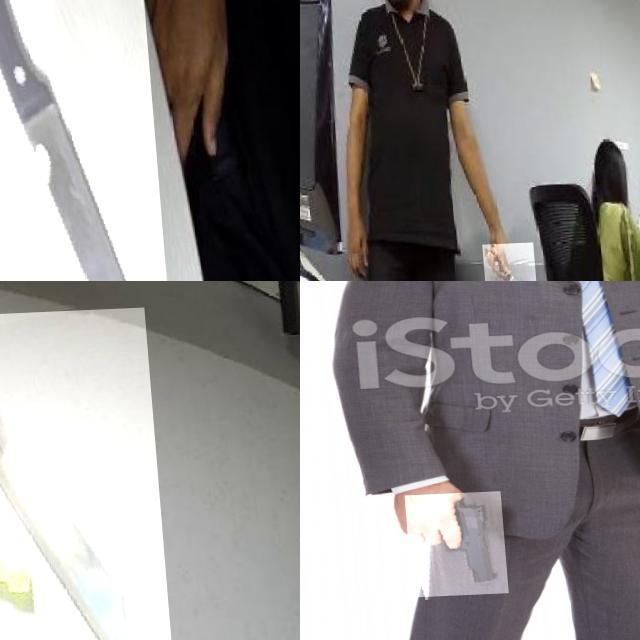-: (0, 311, 170, 640), (0, 0, 170, 281), (473, 245, 529, 281)
gun-knife-thesis - v11 Yolov5 augmented: (396, 494, 498, 598)
